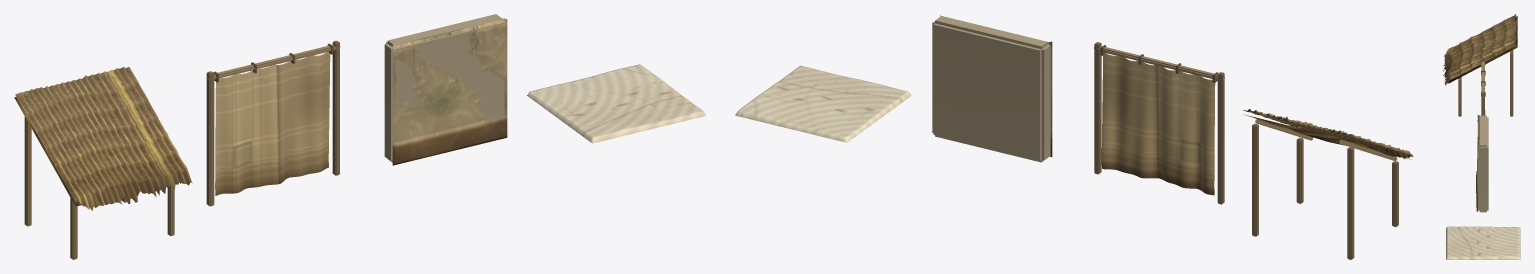
File: rough_surfaces.glb
3 views of the same model, side by side, from view 1: azimuth 30°, elevation 25°; view 2: azimuth 150°, elevation 25°; view 3: azimuth 270°, elevation 25° (orthographic). The views are drawn at different scales.
Parts seen in each view (by area): view 1: hb_props, hb_thatch, hb_jute, hb_main; view 2: hb_props, hb_jute, hb_main, hb_thatch; view 3: hb_props, hb_thatch, hb_main.
Part boxes in pixels (box(x1,y1,x2,y2)): hb_props: box(384, 14, 706, 165); hb_thatch: box(14, 67, 192, 210); hb_jute: box(215, 51, 330, 195); hb_main: box(24, 40, 340, 259); hb_props: box(735, 15, 1052, 162); hb_jute: box(1101, 52, 1215, 195); hb_main: box(1094, 42, 1398, 259); hb_thatch: box(1243, 109, 1413, 159); hb_props: box(1446, 115, 1520, 259); hb_thatch: box(1443, 14, 1517, 85); hb_main: box(1458, 50, 1513, 116).
Size of the model in its own units: 11 by 2.22 by 2.1.
